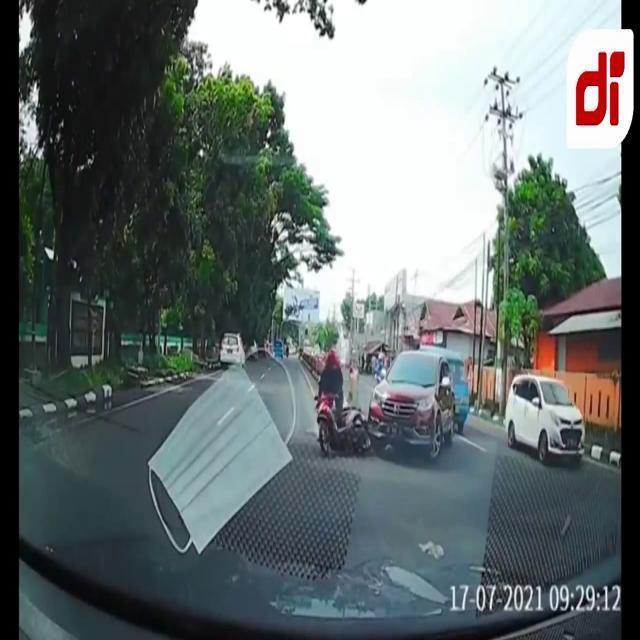accident: (316, 351, 454, 455)
